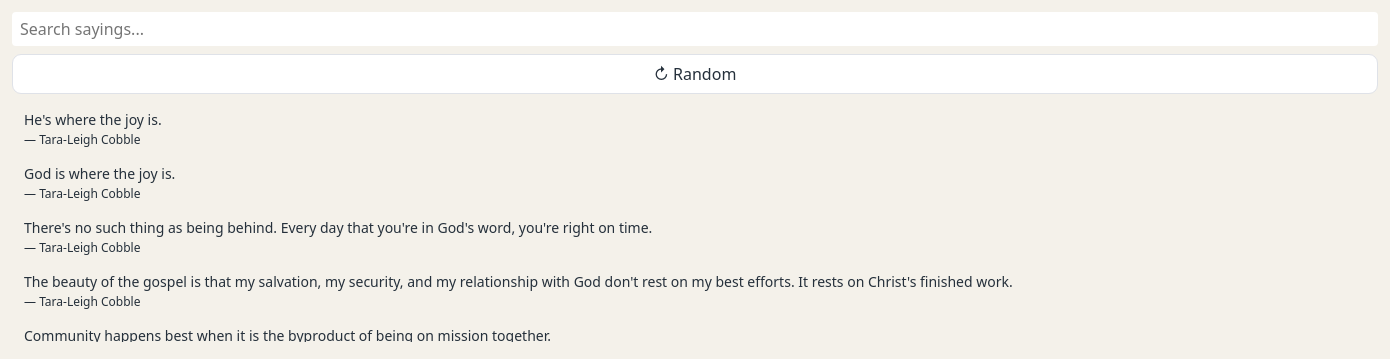
Test case: SayingPicker › search filters the pool down to matching affirmations
Expected: the text "He's where the joy is." is shown, [24,110,162,129]
// Search for a word unique to an affirmation.
Type "disciplined" into the field with placeholder "Search sayings..." at {"x": 695, "y": 29}, box [12,12,1378,46]
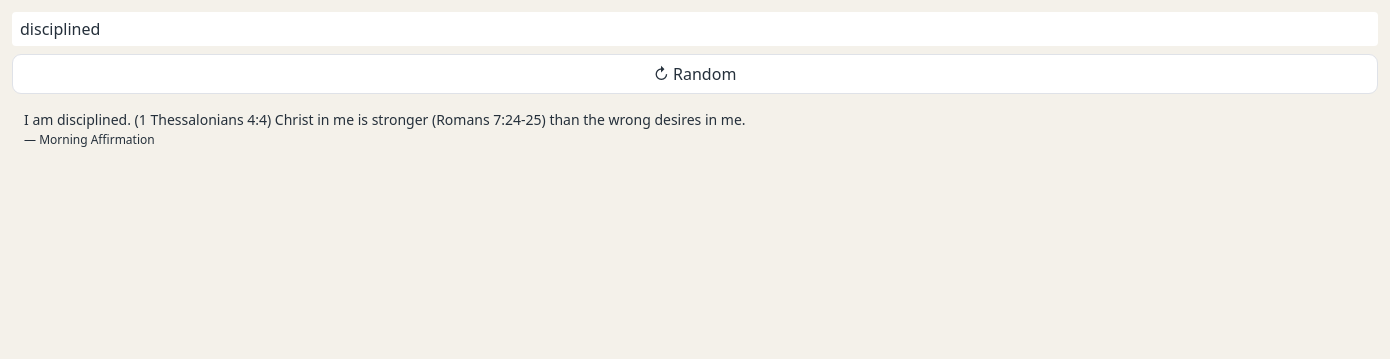
Result: the text "I am disciplined" is shown at [24,110,746,129]
Result: the text "He's where the joy is." is gone
